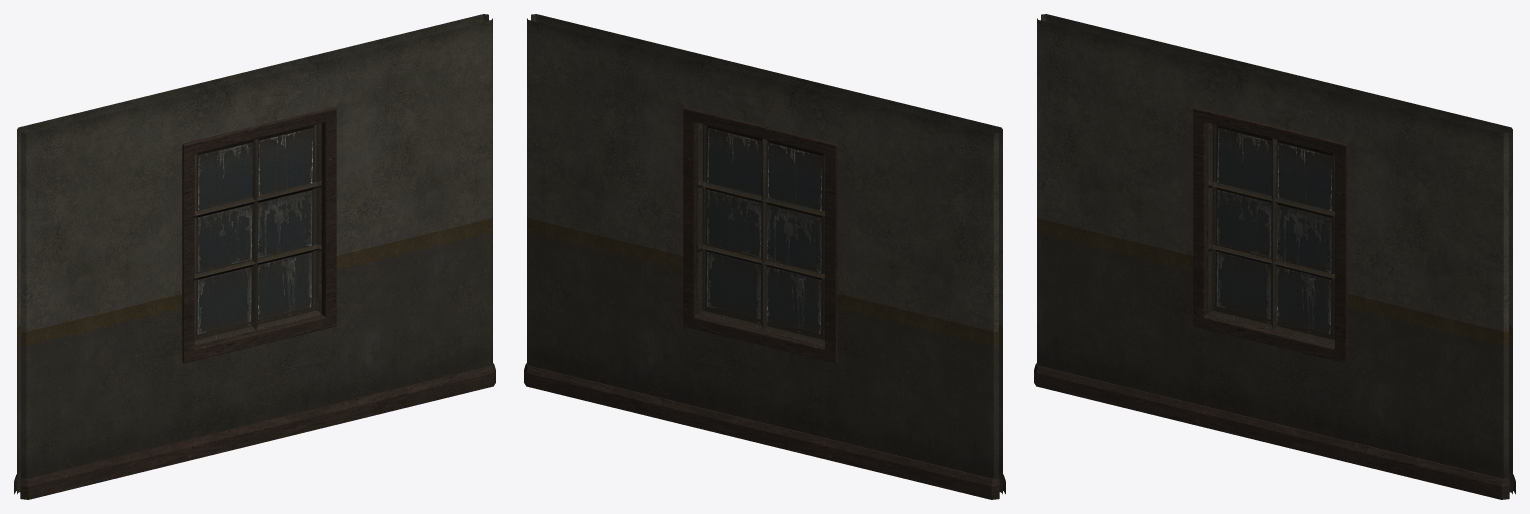
Rendered from window_2_single.obj.
The picture shows the model from 3 angles, left to right: view 1: azimuth 30°, elevation 25°; view 2: azimuth 150°, elevation 25°; view 3: azimuth 330°, elevation 25°; orthographic projection.
Visible parts, largest first — view 1: window_2_single; view 2: window_2_single; view 3: window_2_single.
Part boxes in pixels (bbox=[...]): window_2_single: bbox=[14, 14, 495, 499]; window_2_single: bbox=[524, 14, 1005, 499]; window_2_single: bbox=[1034, 14, 1515, 499].
Size of the model in its own units: 4.09 by 3 by 0.18.
